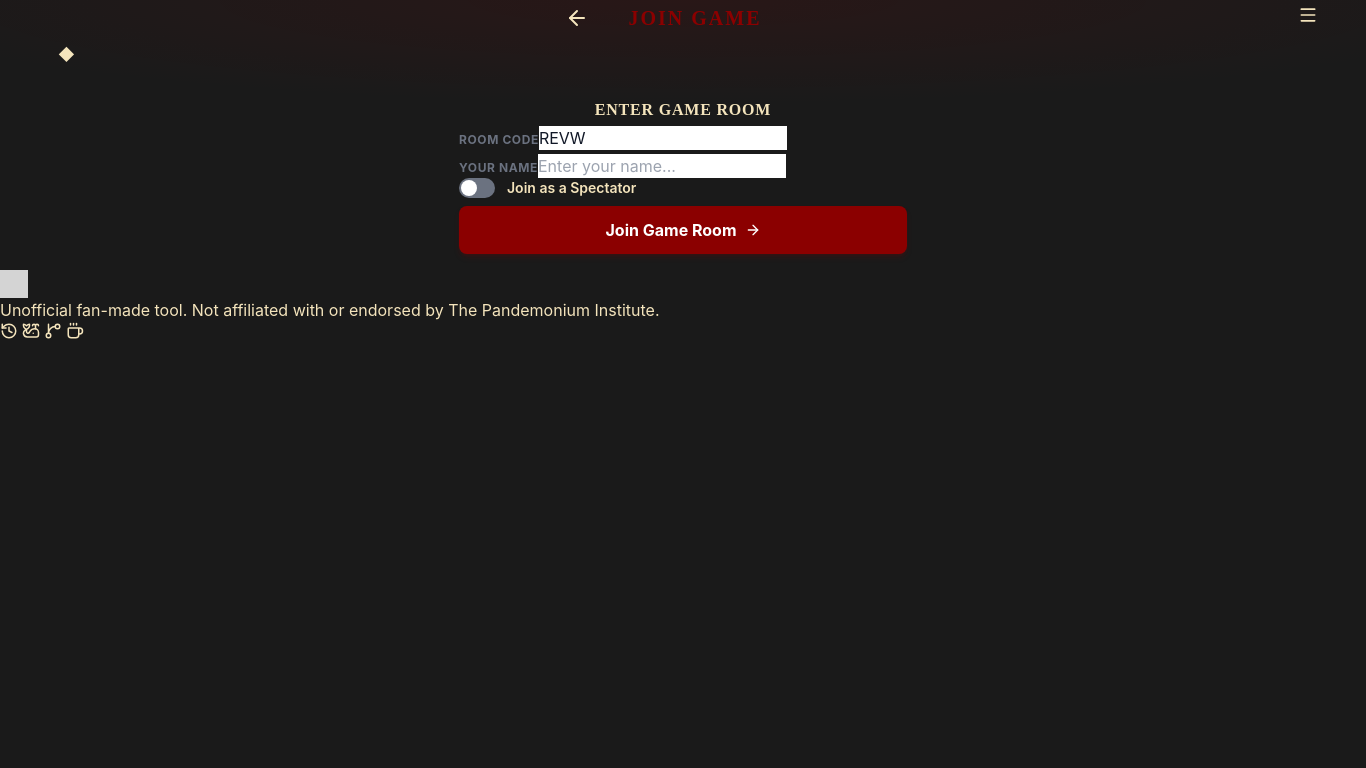
Scenario: Game sync regressions › shows the removal message and stops join retries for booted
This screenshot has width=1366, height=768.
Type "Alice" into the field with placeholder "Enter your name...".
click(662, 166); type("Alice")  # box [538,154,786,178]
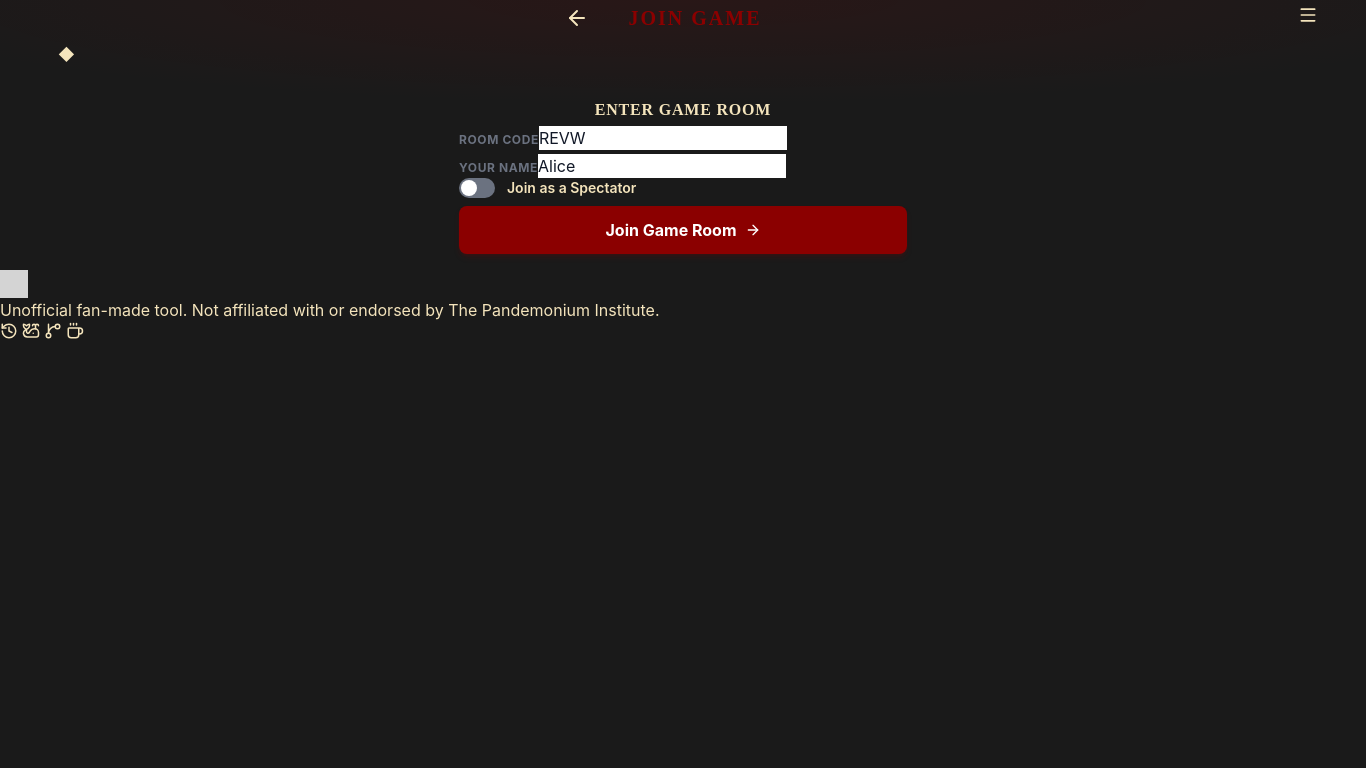
Click the button "Join Game Room".
click(683, 230)  # box [459,206,907,254]
Wait 10000 ms
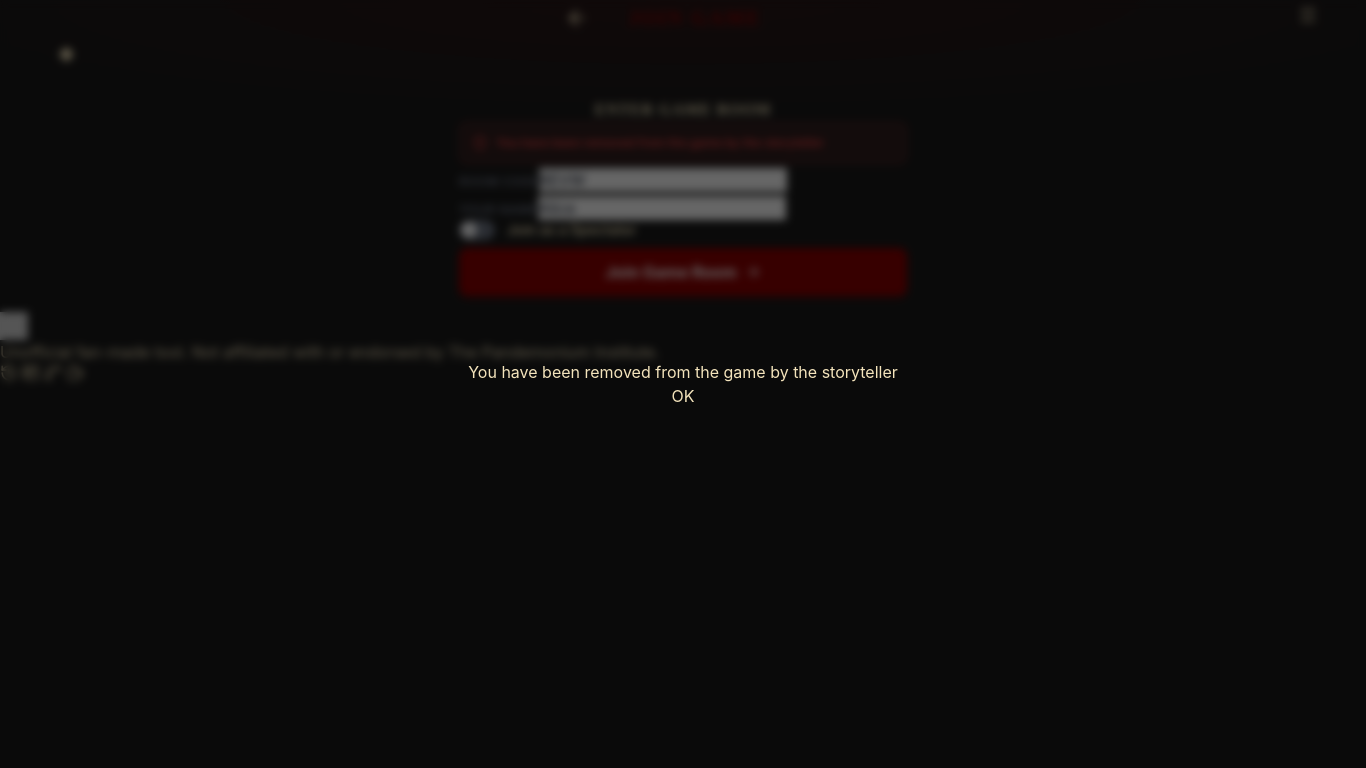
expect the button "Join Game Room" is shown: met, box [459,248,907,296]
expect the element with id "dialog-modal" shows "You have been removed from the game by the storyteller": met, box [468,362,898,382]
